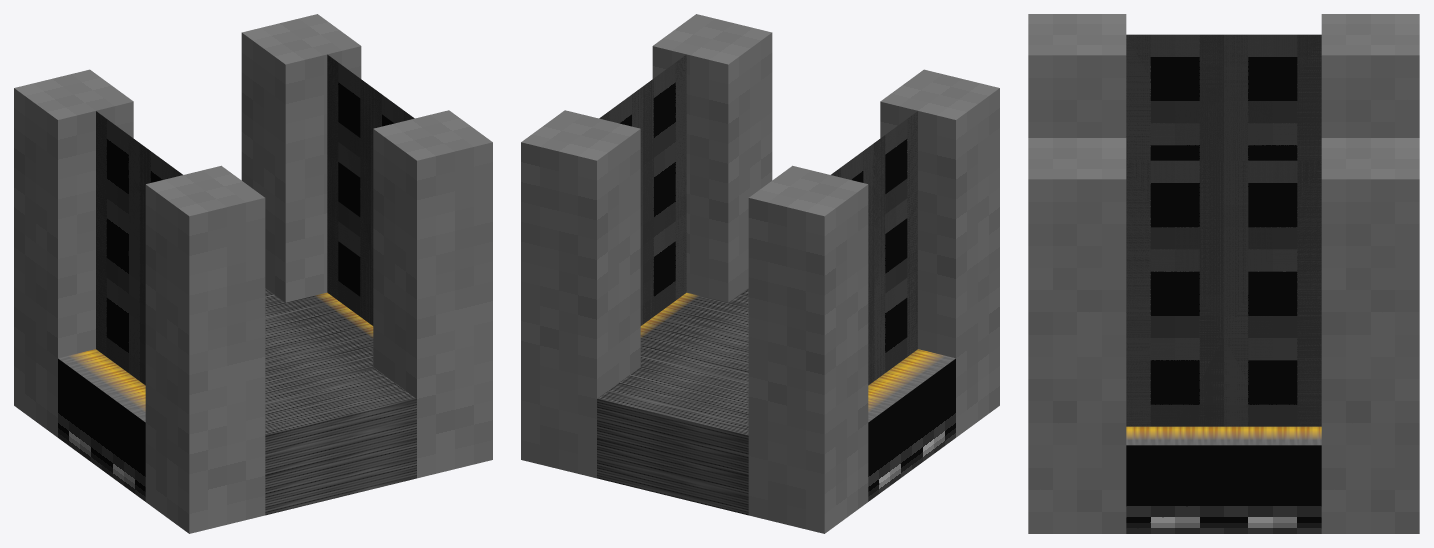
Rendered from conveyor_chute_0.obj.
3 renders of one model, left to right at view 1: azimuth 30°, elevation 25°; view 2: azimuth 150°, elevation 25°; view 3: azimuth 270°, elevation 25°, orthographic. The views are drawn at different scales.
Parts seen in each view (by area): view 1: o4, o3, o1, o2, cvr, cvr2, r4, r2; view 2: o1, o2, o4, o3, cvr, cvr1, r4, r2; view 3: r2, o2, o3, r4, cvr, o1, o4.
Part boxes in pixels (x1,y1,x2,y2): o4: [145, 165, 265, 533]; o3: [373, 110, 492, 478]; o1: [14, 69, 133, 437]; o2: [241, 14, 361, 302]; cvr: [58, 292, 373, 501]; cvr2: [265, 367, 416, 515]; r4: [96, 111, 182, 385]; r2: [327, 54, 414, 325]; o1: [748, 165, 868, 533]; o2: [521, 110, 640, 478]; o4: [880, 69, 999, 437]; o3: [652, 14, 772, 302]; cvr: [640, 292, 955, 501]; cvr1: [597, 367, 748, 515]; r4: [831, 111, 917, 385]; r2: [599, 54, 686, 325]; r2: [1126, 160, 1321, 426]; o2: [1321, 138, 1419, 533]; o3: [1028, 138, 1126, 533]; r4: [1126, 34, 1321, 160]; cvr: [1126, 426, 1321, 533]; o1: [1321, 14, 1419, 137]; o4: [1028, 14, 1126, 137].
Bounding box in the file's own units: 1 × 1 × 1.
